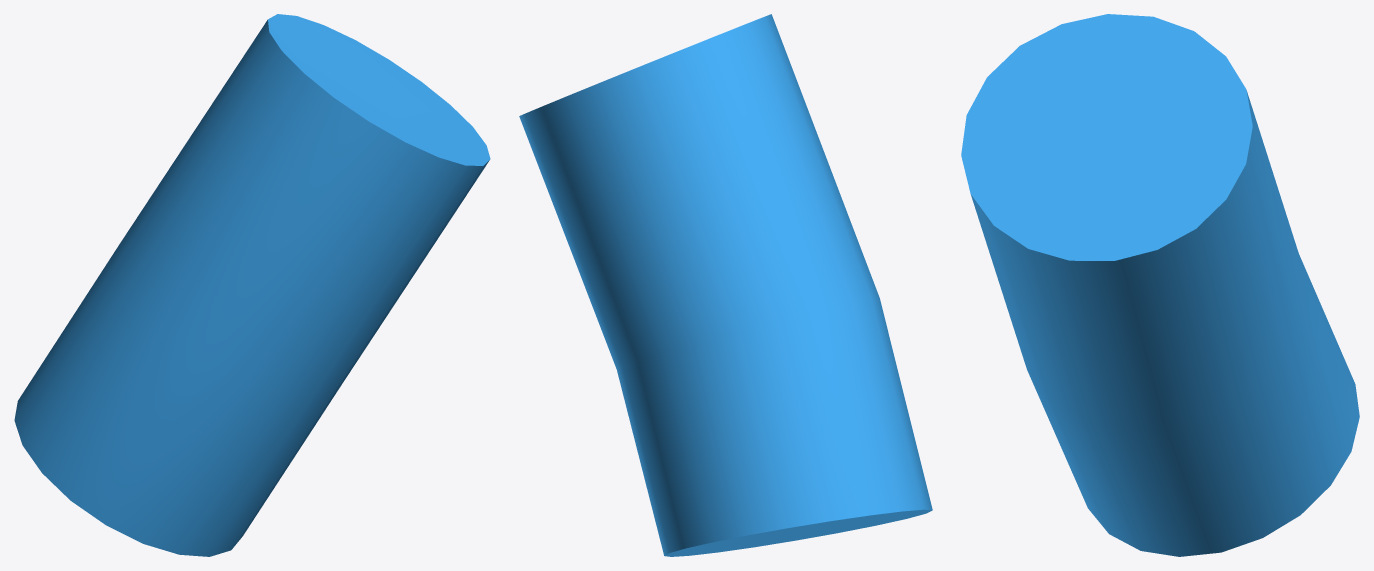
Rendered from capSite.glb.
The picture shows the model from 3 angles, left to right: view 1: azimuth 30°, elevation 25°; view 2: azimuth 150°, elevation 25°; view 3: azimuth 270°, elevation 25°; orthographic projection. The views are drawn at different scales.
Parts seen in each view (by area): view 1: capSite; view 2: capSite; view 3: capSite.
Boxes of the visible parts, x1,y1,x2,y2 form: capSite: (14,14,490,556); capSite: (519,14,932,556); capSite: (961,14,1359,556).
Size of the model in its own units: 0.1663 by 0.1951 by 0.1278.
